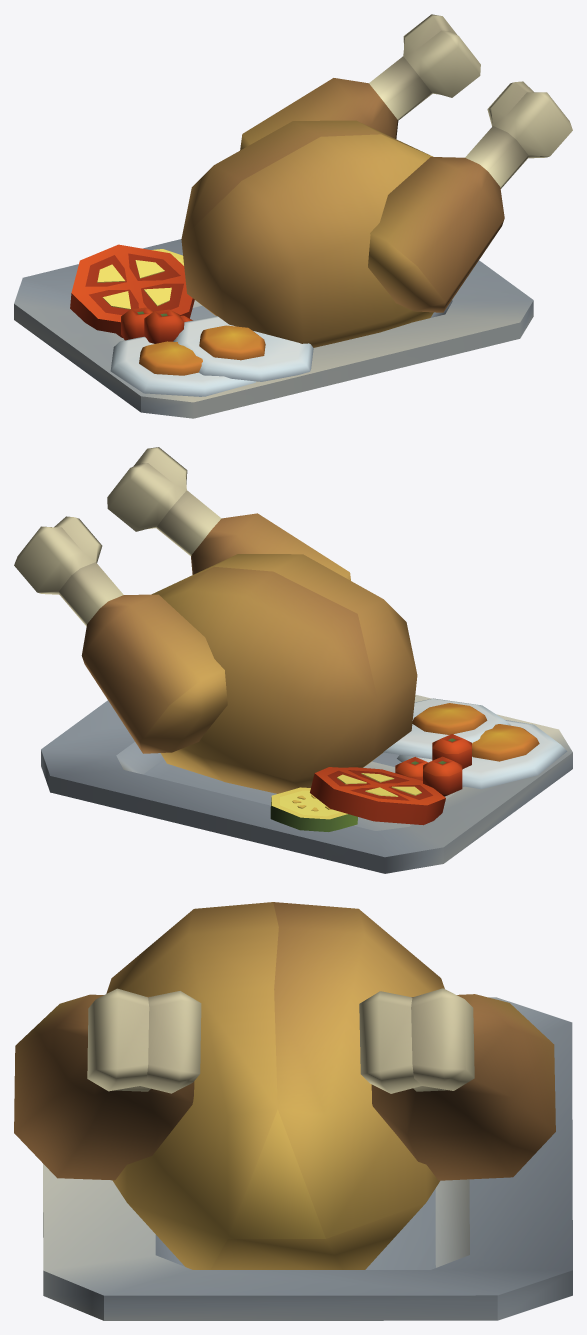
File: tray_chicken.fbx
3 renders of one model, top to bottom at view 1: azimuth 30°, elevation 25°; view 2: azimuth 150°, elevation 25°; view 3: azimuth 270°, elevation 25°, orthographic. The views are drawn at different scales.
Parts seen in each view (by area): view 1: tray_chicken; view 2: tray_chicken; view 3: tray_chicken.
Part boxes in pixels (bbox=[...]): tray_chicken: bbox=[14, 14, 572, 418]; tray_chicken: bbox=[14, 447, 572, 873]; tray_chicken: bbox=[14, 902, 572, 1320].
Bounding box in the file's own units: 83.72 × 44.06 × 60.1.
